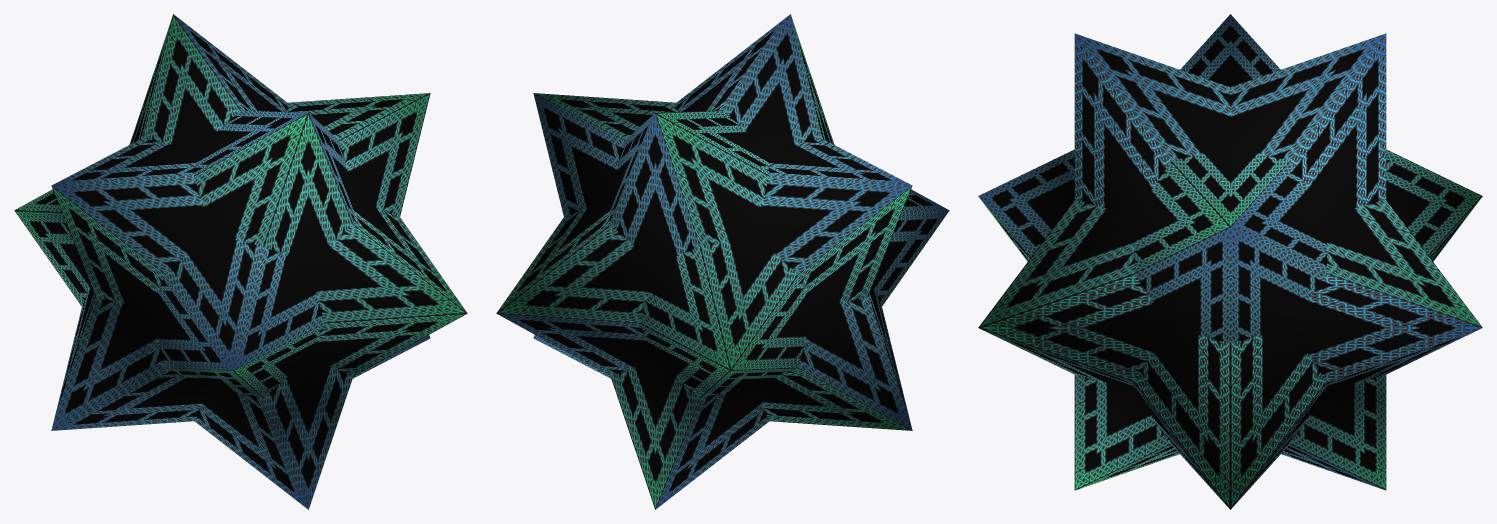
The model's file is 22MedialRhombicTriacontahedron.gltf.
3 renders of one model, left to right at view 1: azimuth 30°, elevation 25°; view 2: azimuth 150°, elevation 25°; view 3: azimuth 270°, elevation 25°, orthographic. The views are drawn at different scales.
Parts seen in each view (by area): view 1: MedialRhombicTriacontahedron9; view 2: MedialRhombicTriacontahedron9; view 3: MedialRhombicTriacontahedron9.
Part boxes in pixels (bbox=[...]): MedialRhombicTriacontahedron9: bbox=[14, 14, 467, 509]; MedialRhombicTriacontahedron9: bbox=[496, 14, 949, 509]; MedialRhombicTriacontahedron9: bbox=[978, 14, 1482, 509].
Size of the model in its own units: 2.43 by 2.43 by 2.43.
1 material, 1 textured.
